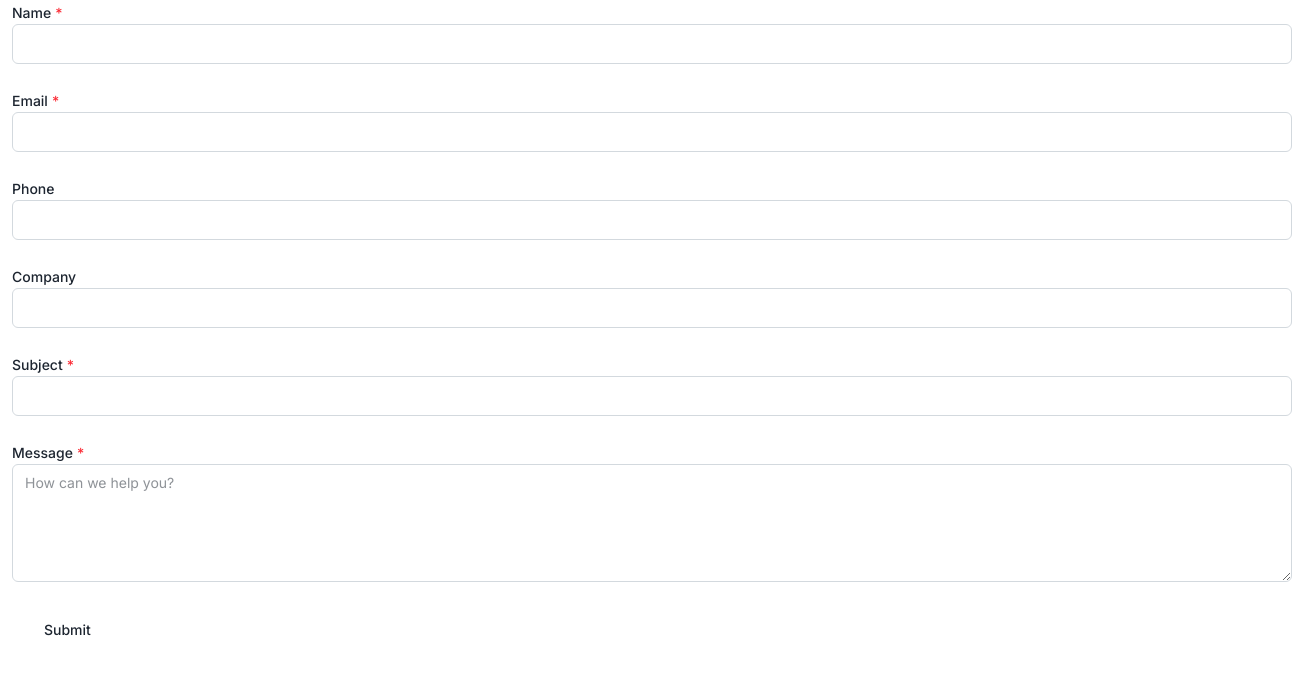
Test: ContactForm › Form Submission › displays success message on successful submission
Type "John Doe" into the field labelled "Name*".
click(652, 44); type("John Doe")  # box [12,24,1292,64]
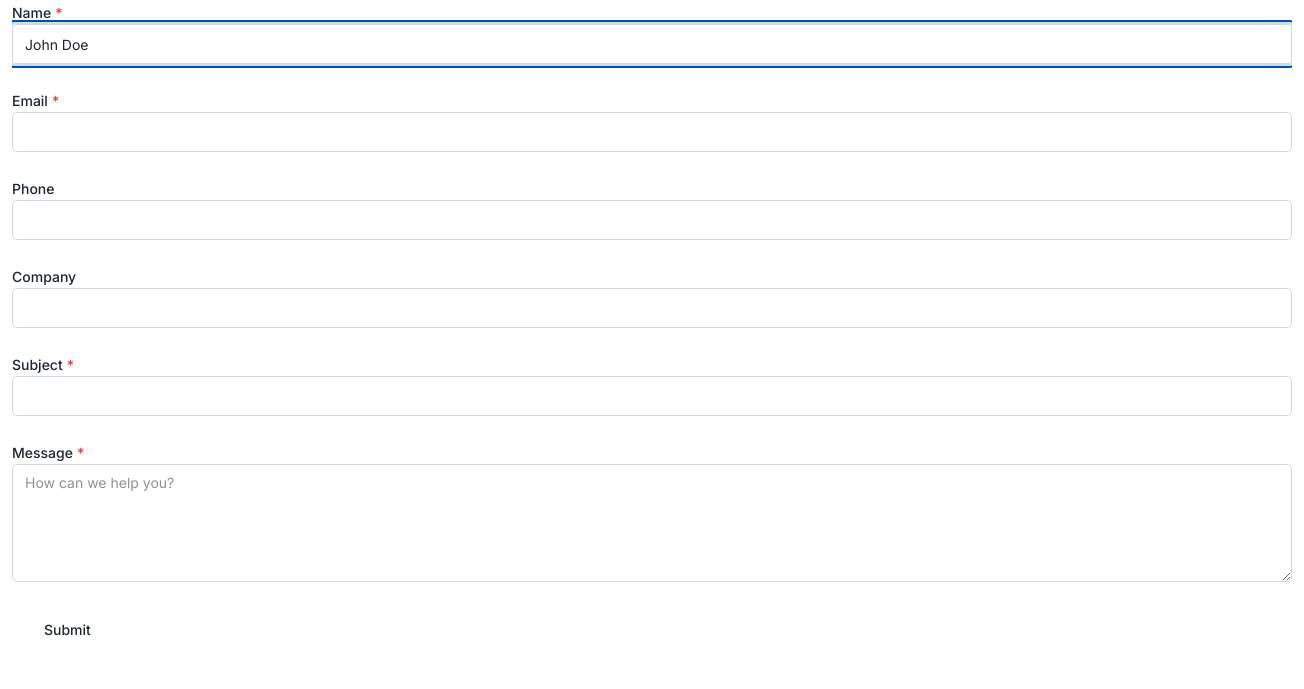
Type "john@example.com" into the field labelled "Email*".
click(652, 132); type("john@example.com")  # box [12,112,1292,152]
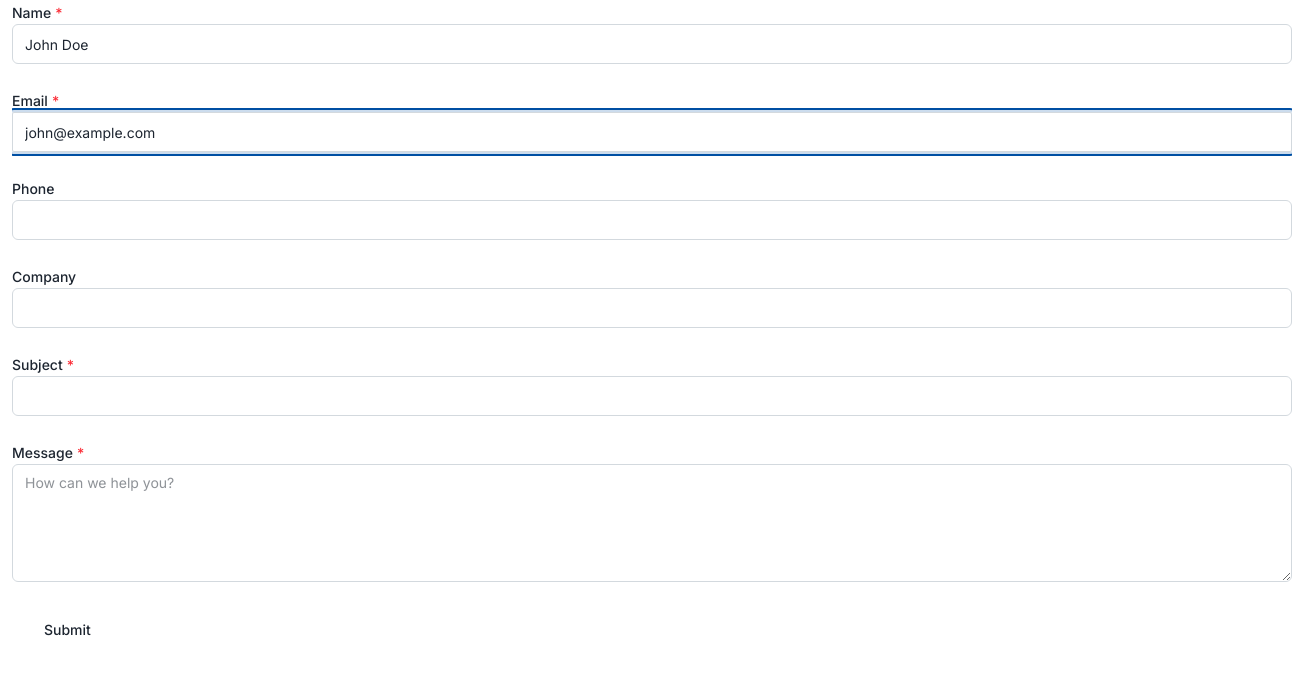
Type "General Inquiry" into the field labelled "Subject*".
click(652, 396); type("General Inquiry")  # box [12,376,1292,416]
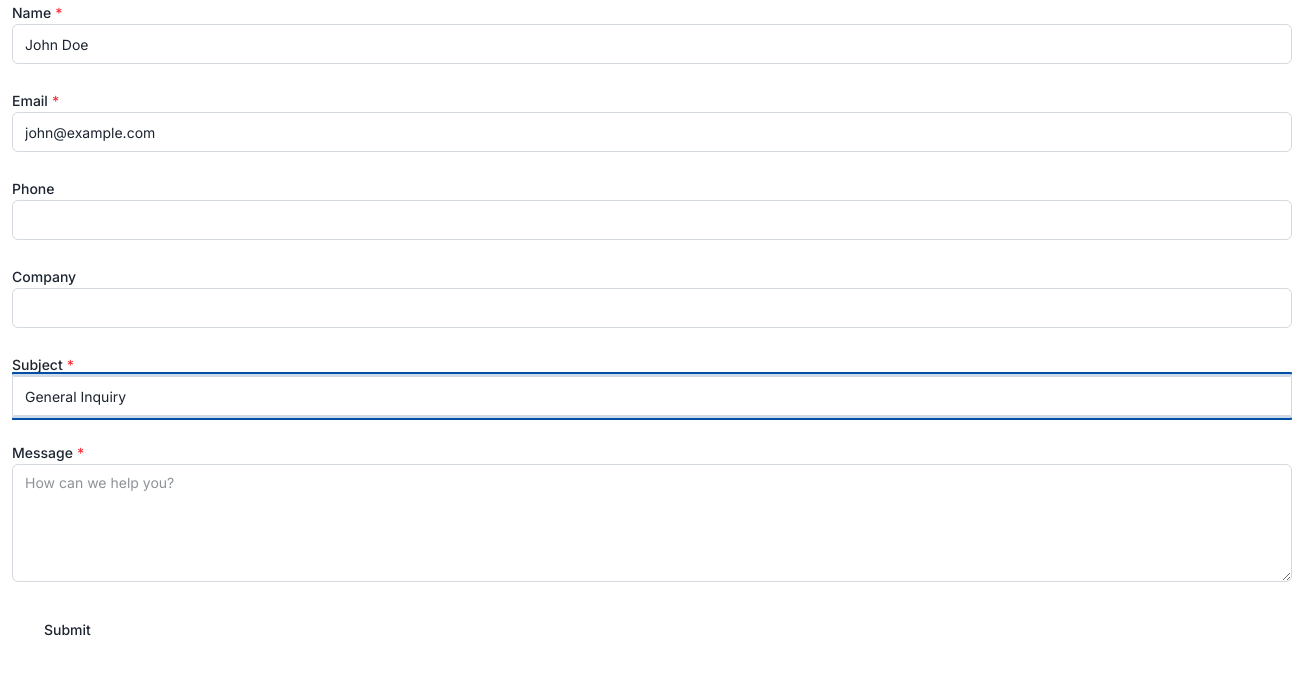
Type "I have a question" into the text box labelled "Message*".
click(652, 523); type("I have a question")  # box [12,464,1292,582]
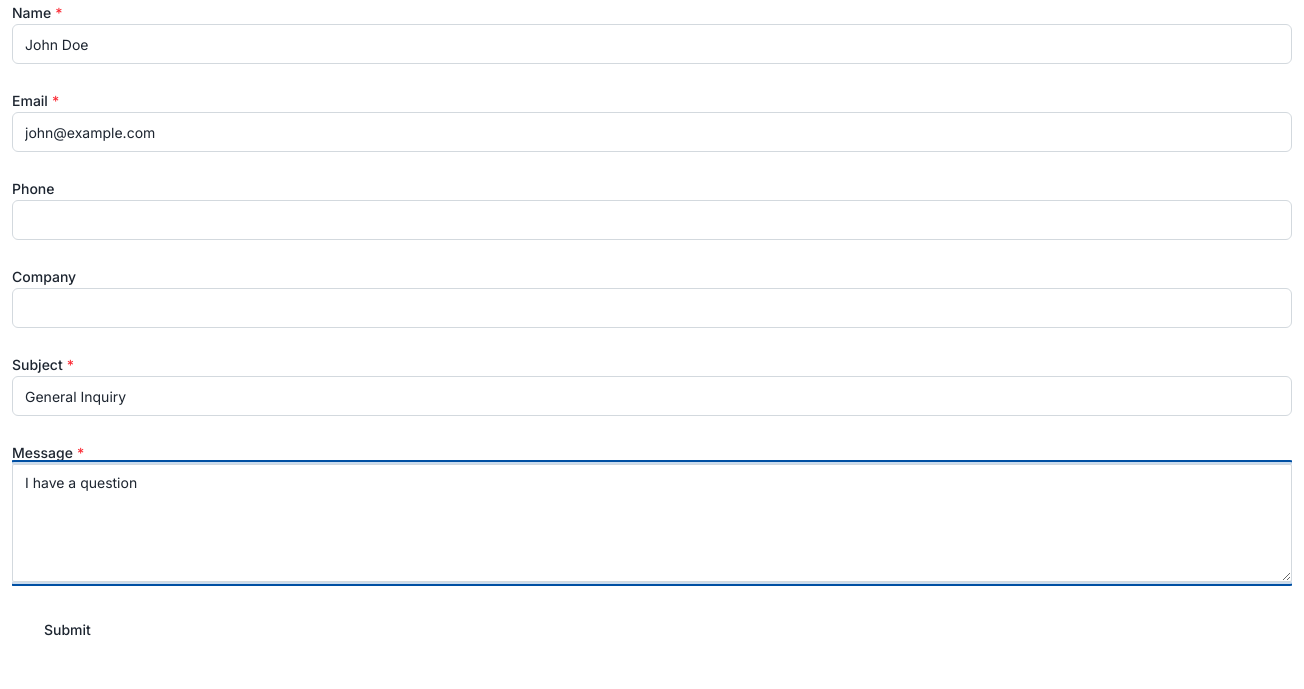
Click the button "Submit".
click(67, 630)  # box [12,606,123,654]
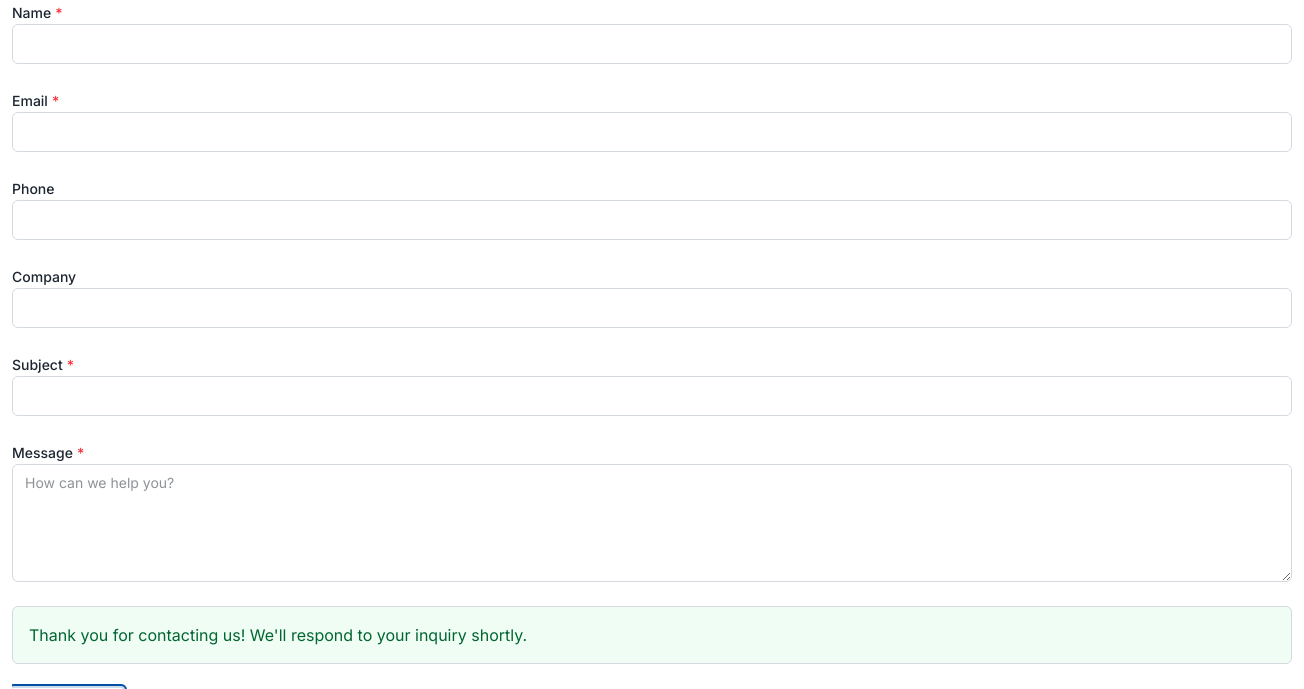
Check: the text "Thank you for contacting us! We'll respond to your inquiry shortly." is shown, box [12,606,1292,664]
